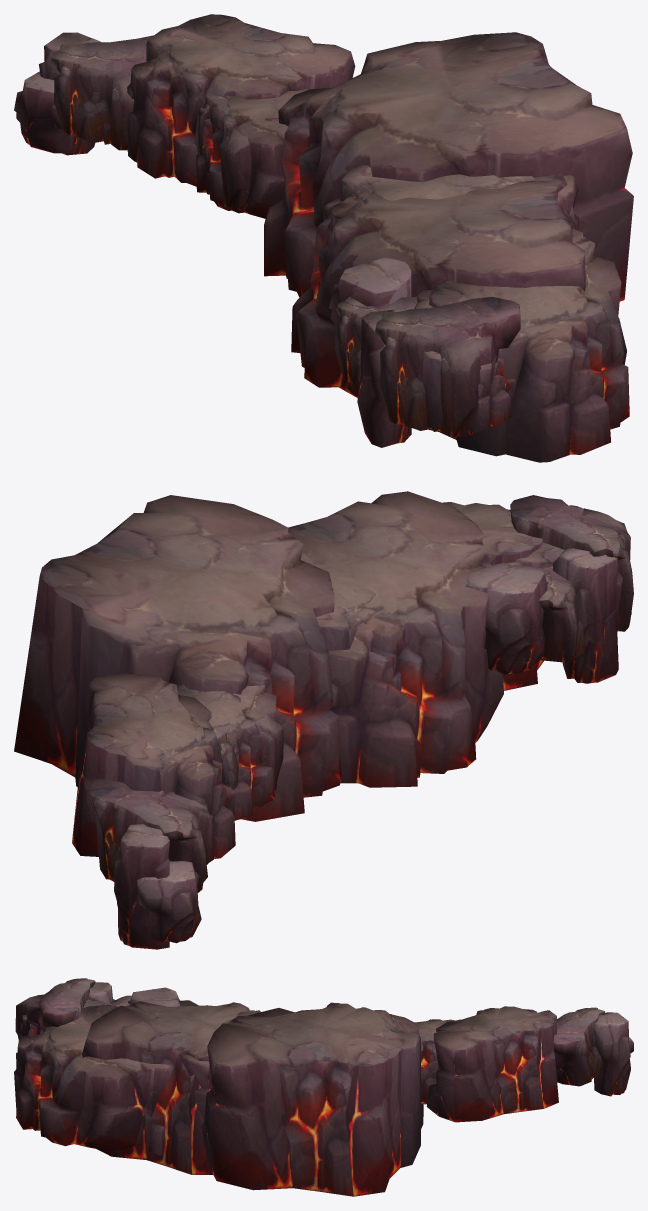
The model's file is yanshi5_1.fbx.
3 renders of one model, top to bottom at view 1: azimuth 30°, elevation 25°; view 2: azimuth 150°, elevation 25°; view 3: azimuth 270°, elevation 25°, orthographic. The views are drawn at different scales.
Parts seen in each view (by area): view 1: yanshi5_1; view 2: yanshi5_1; view 3: yanshi5_1.
Boxes of the visible parts, x1,y1,x2,y2 form: yanshi5_1: (14, 14, 633, 462); yanshi5_1: (14, 491, 633, 949); yanshi5_1: (14, 978, 633, 1196).
Size of the model in its own units: 4527 by 2114 by 8952.
